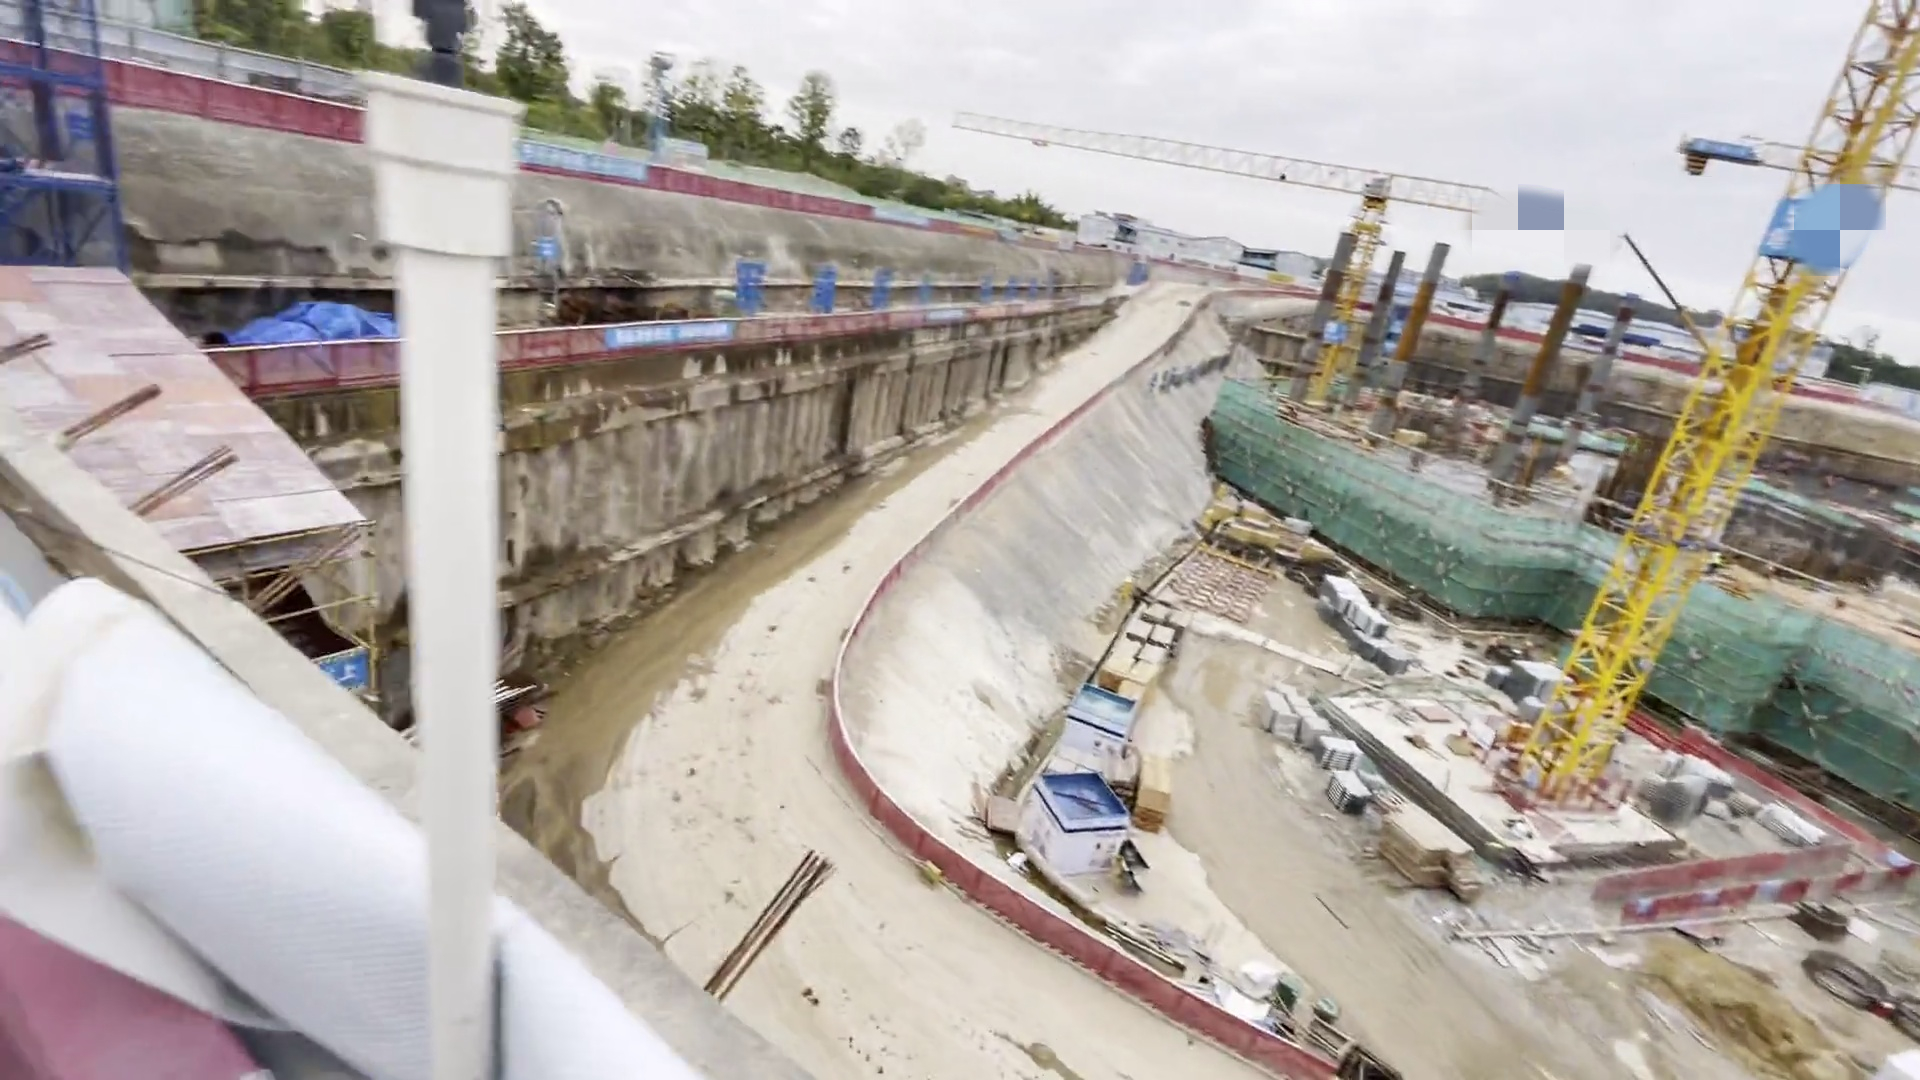fence: (833, 723, 1352, 1080), (1569, 688, 1920, 971), (231, 293, 1117, 363)
slogan: (1011, 770, 1134, 872), (1060, 670, 1154, 767), (526, 132, 662, 186), (858, 189, 953, 255), (597, 314, 740, 349)
